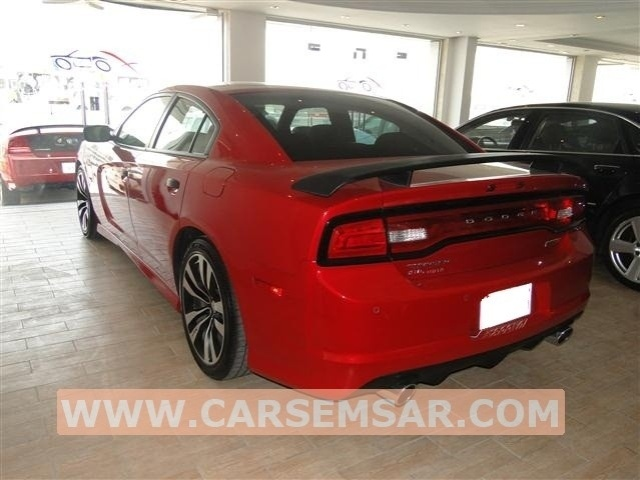Xe_hoi: (72, 81, 599, 391)
